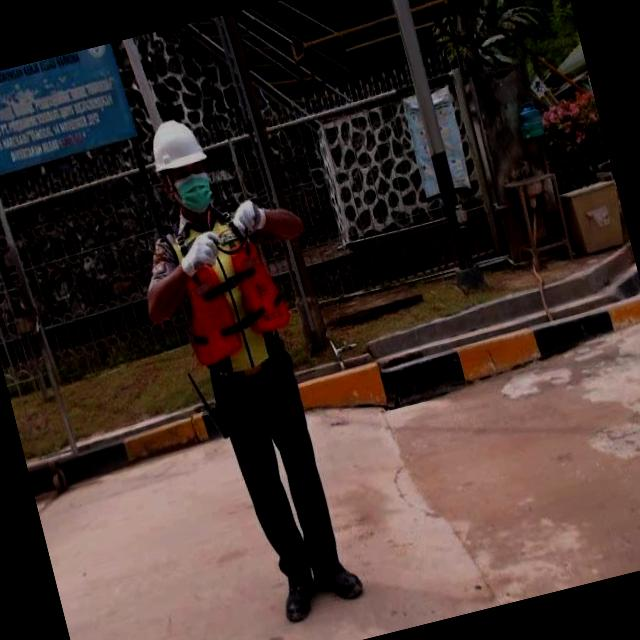vest: (164, 201, 298, 380)
